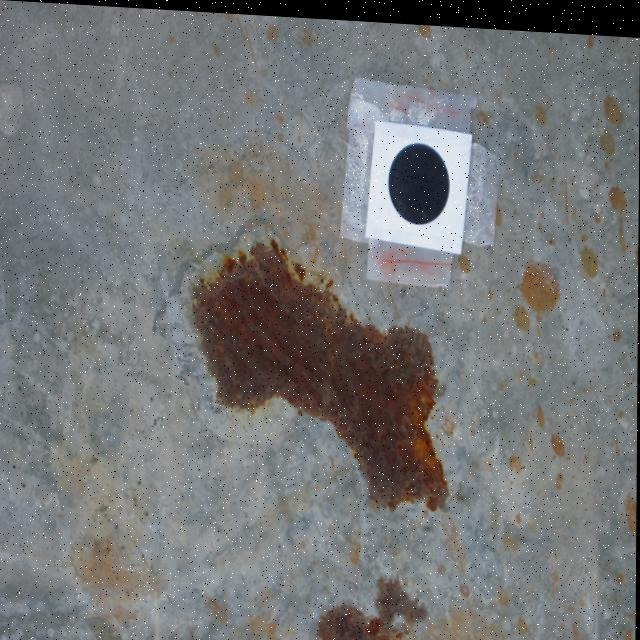corrosion: (190, 228, 453, 510), (317, 566, 429, 640), (518, 251, 566, 316)
